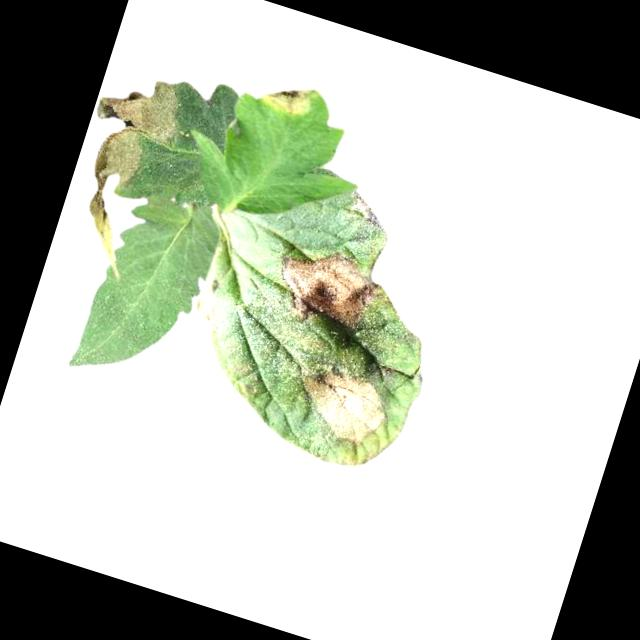Late_blight: (49, 62, 200, 283), (266, 241, 390, 345), (284, 353, 400, 457), (258, 73, 323, 123), (186, 282, 227, 338), (343, 188, 392, 232)
healthy: (66, 179, 228, 399)
